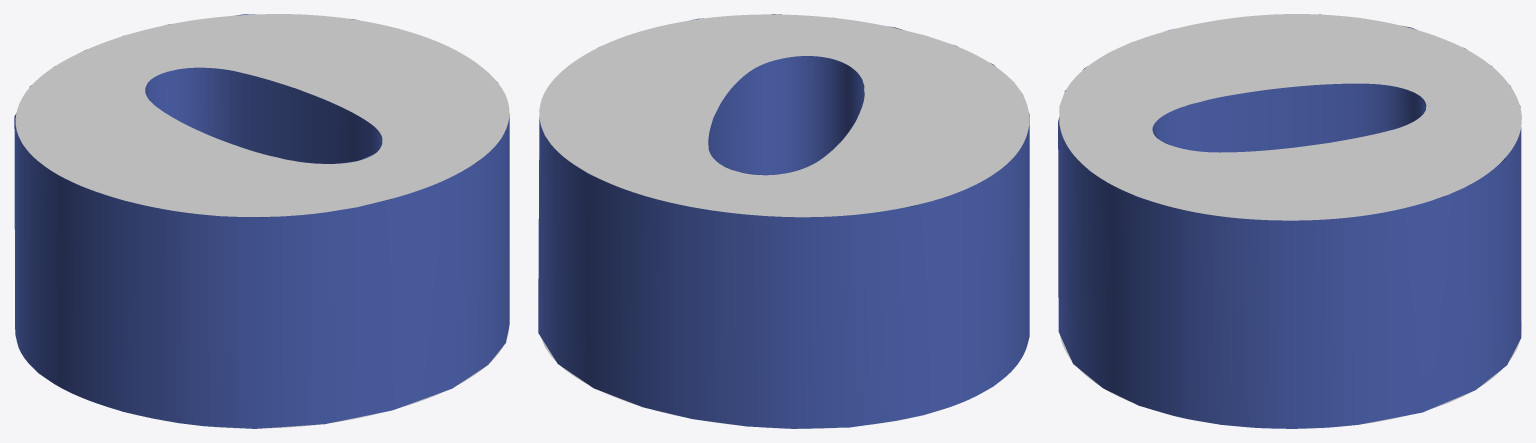
3 renders of one model, left to right at view 1: azimuth 30°, elevation 25°; view 2: azimuth 150°, elevation 25°; view 3: azimuth 270°, elevation 25°, orthographic.
Parts seen in each view (by area): view 1: O; view 2: O; view 3: O.
Part boxes in pixels (<box>): O: <box>14,14,509,428</box>; O: <box>538,14,1029,428</box>; O: <box>1058,14,1521,428</box>.
Bounding box in the file's own units: 1.57 × 0.736 × 1.49.
